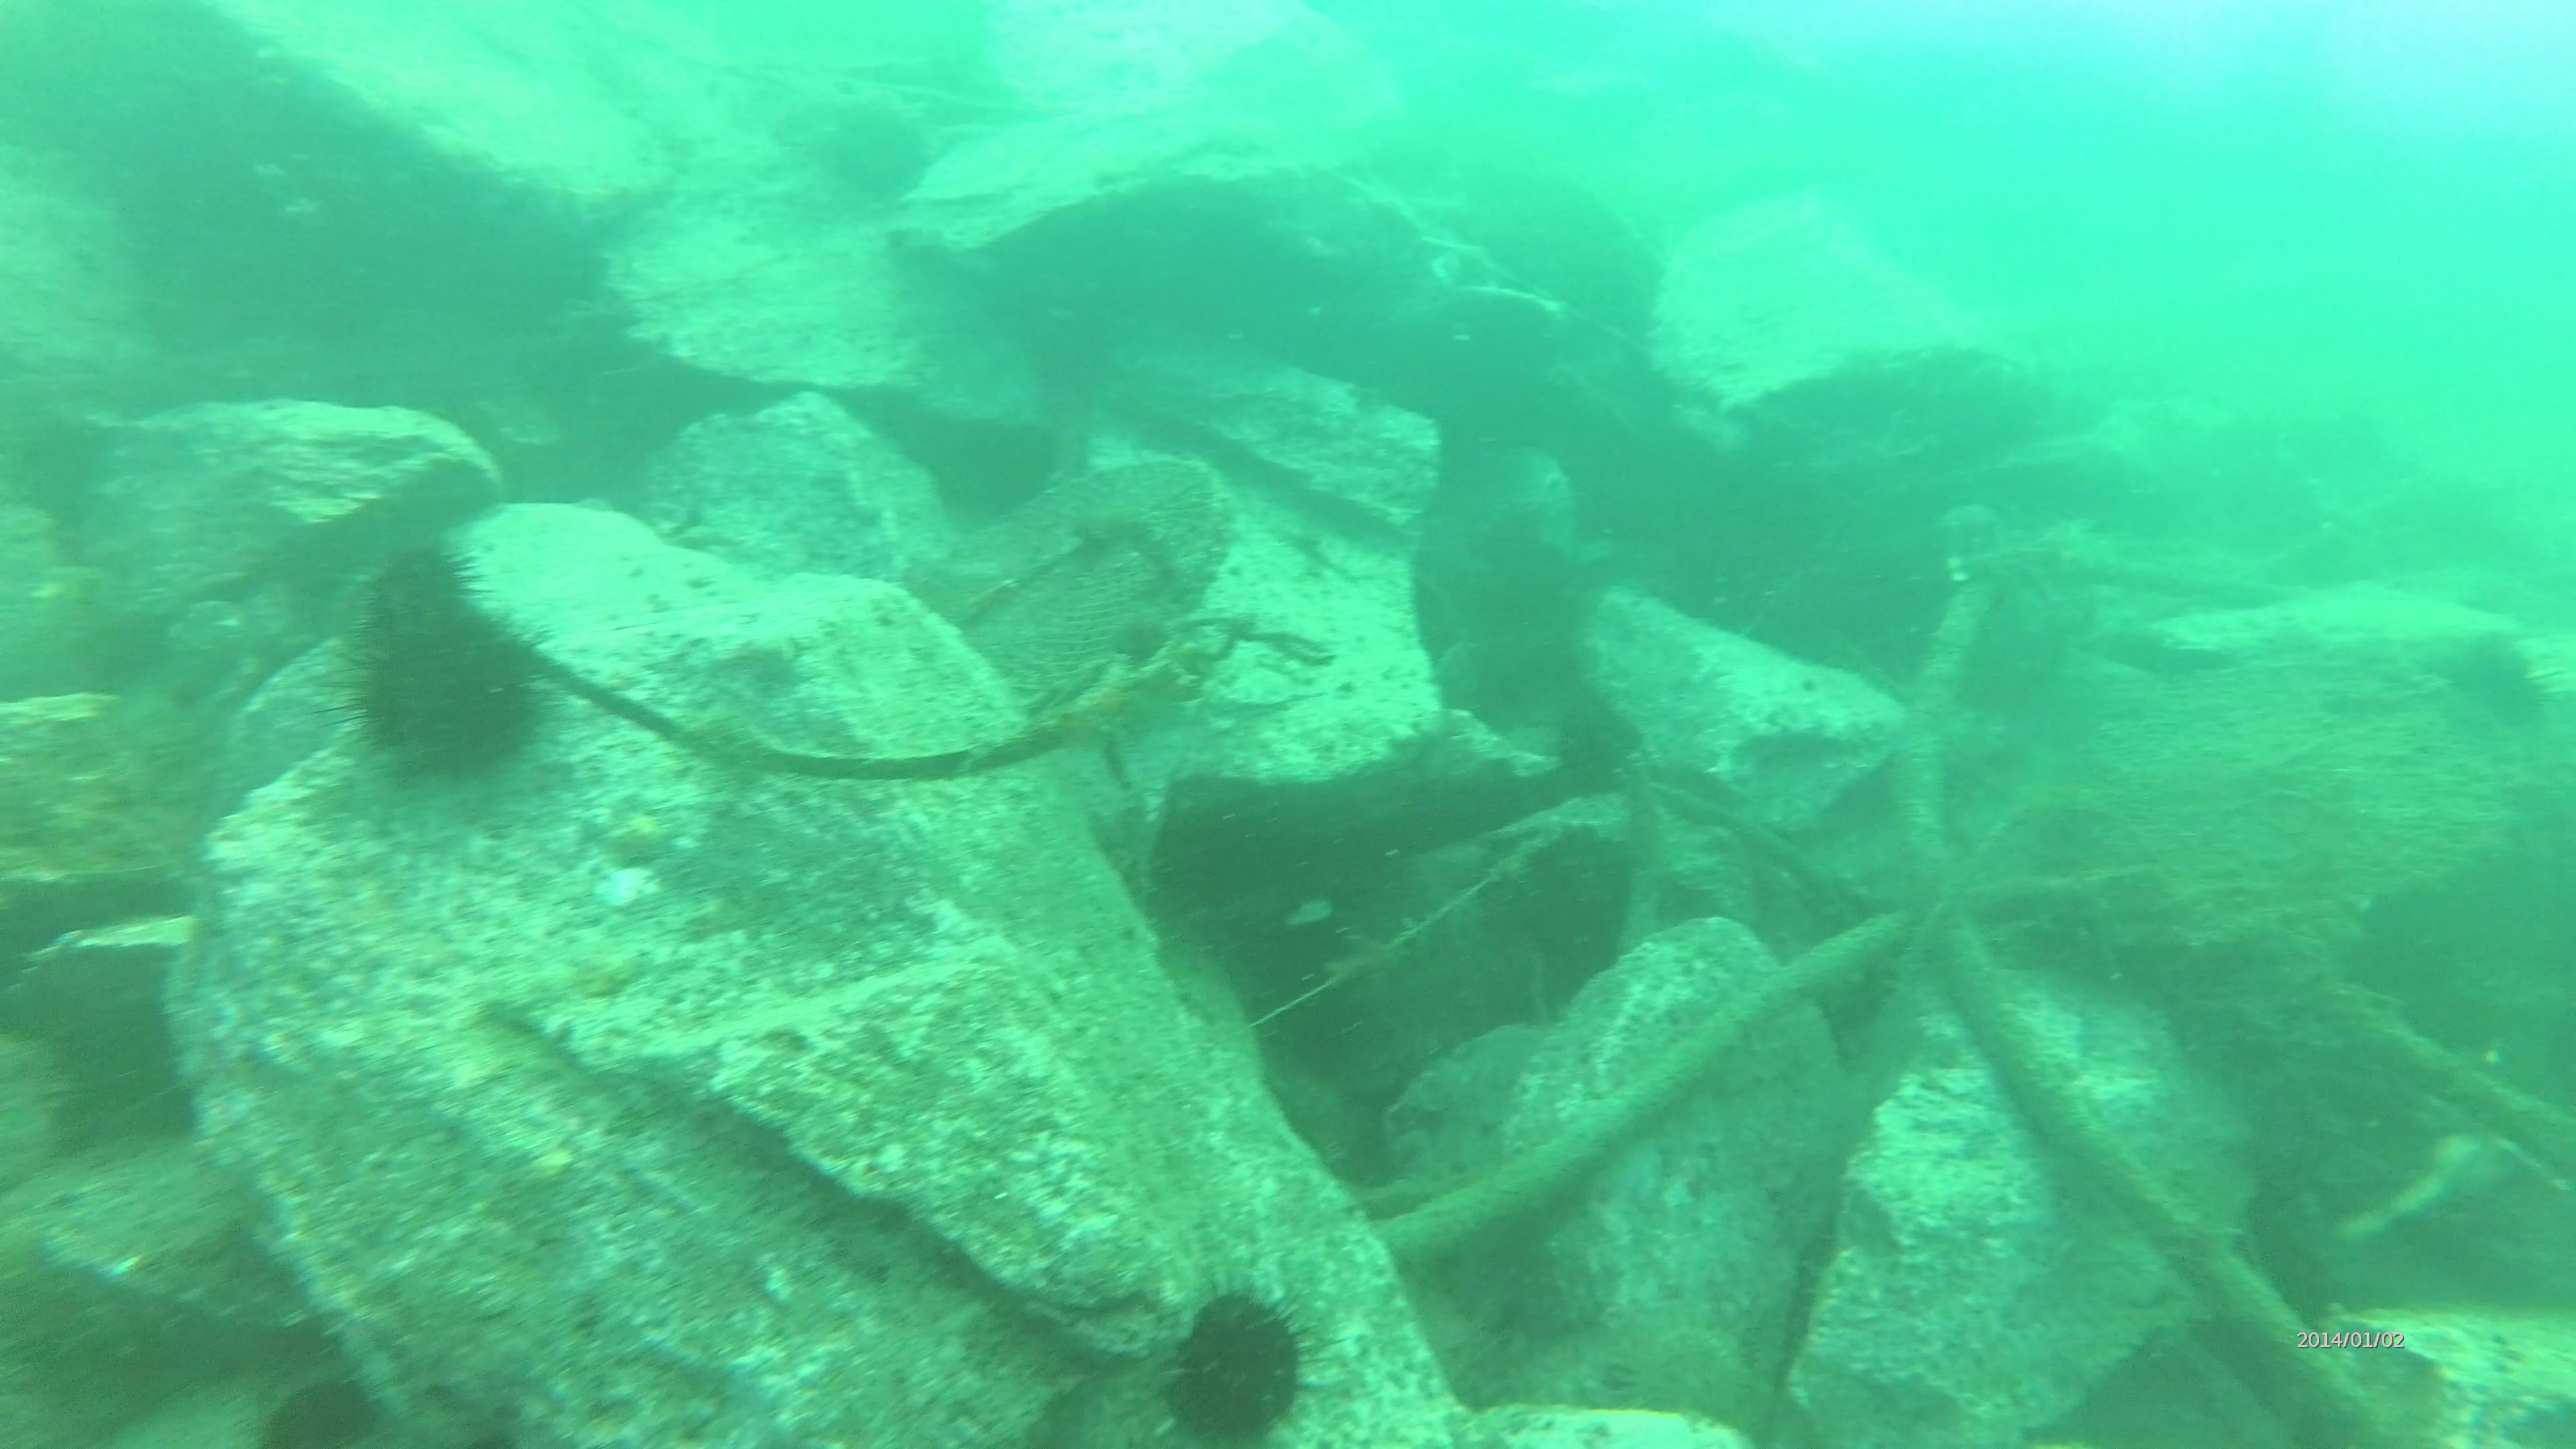echinus: (327, 610, 571, 789), (1139, 1284, 1334, 1449), (1601, 1304, 1783, 1444), (345, 536, 487, 653), (249, 1359, 419, 1449)
holothurian: (688, 706, 770, 786)
